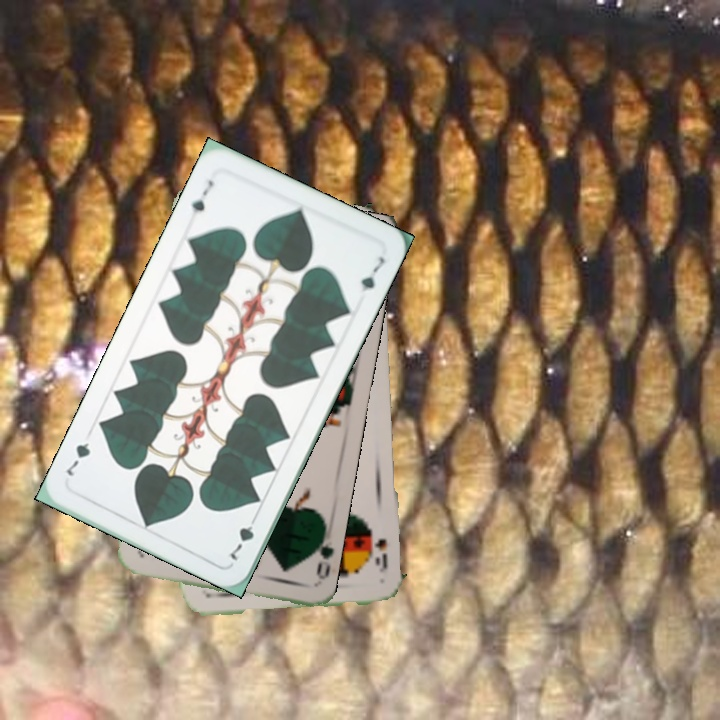G7: (226, 510, 261, 564), (187, 175, 216, 216)
GO: (305, 524, 334, 582)
SO: (367, 524, 390, 573)
